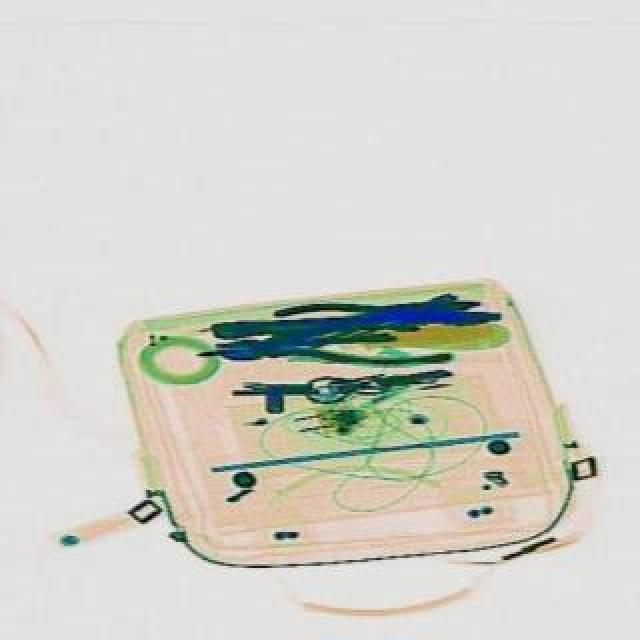wrench: (212, 320, 452, 374), (268, 284, 482, 342)
